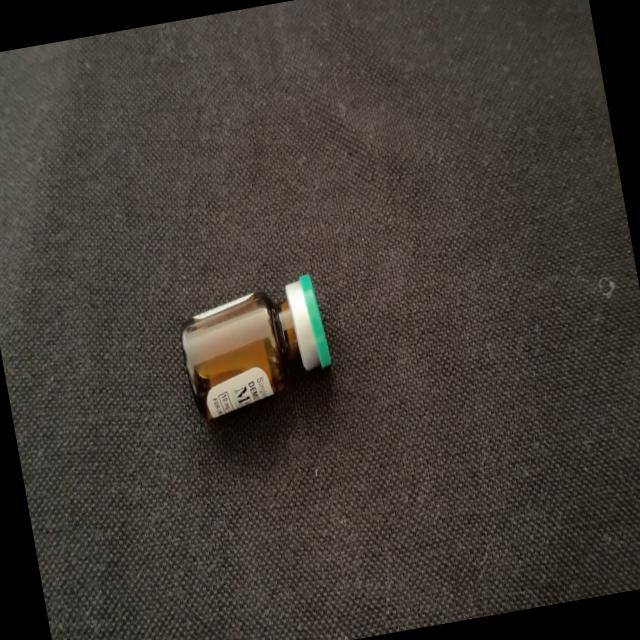midazolm: (176, 276, 335, 420)
